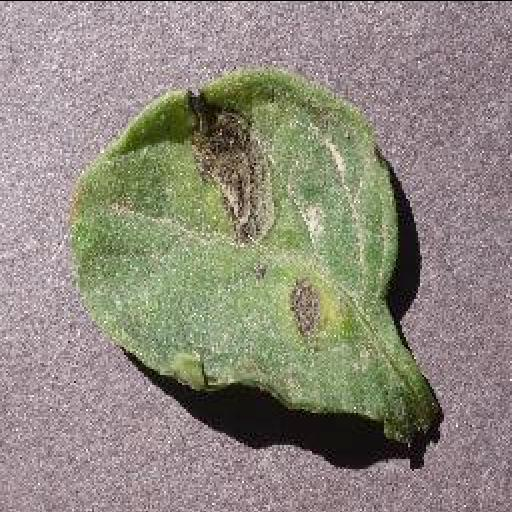disease_tomato: (67, 66, 437, 450)
